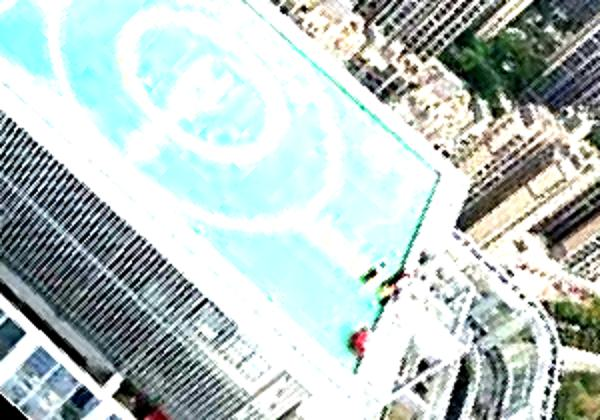Apron: (108, 1, 290, 167)
